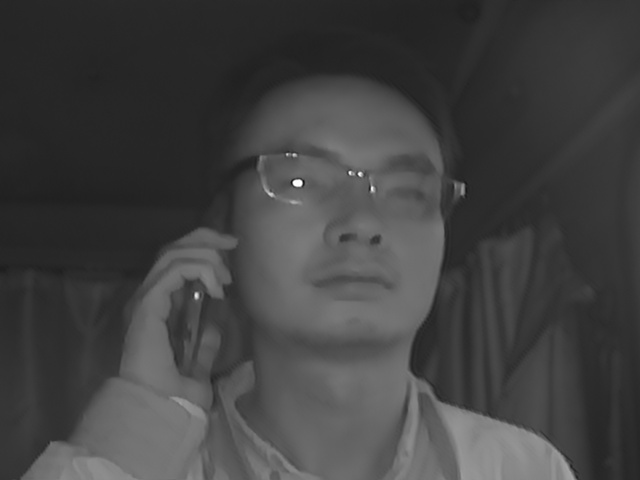hand: (114, 225, 243, 406)
